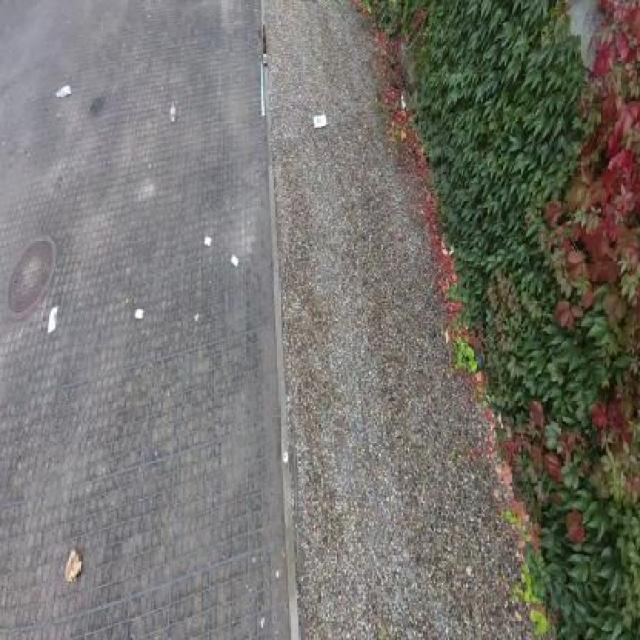Garbage: (64, 549, 83, 581), (47, 304, 58, 334), (260, 60, 265, 117), (56, 83, 72, 97), (262, 25, 267, 68), (314, 114, 327, 129), (230, 253, 240, 268), (170, 101, 176, 124), (203, 236, 213, 248), (282, 452, 288, 468), (135, 309, 144, 319)
